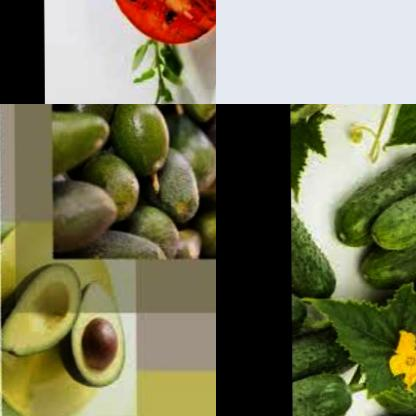avocado: (0, 260, 74, 371), (73, 271, 135, 394), (117, 104, 174, 198), (43, 104, 120, 168), (51, 179, 127, 236), (157, 149, 212, 224), (93, 222, 178, 265), (181, 104, 216, 191)
cucumber: (321, 125, 416, 255), (343, 204, 416, 290), (291, 310, 380, 376), (291, 212, 348, 313), (366, 143, 416, 254), (292, 354, 374, 416), (371, 371, 416, 416)
tomato: (100, 0, 216, 46)
